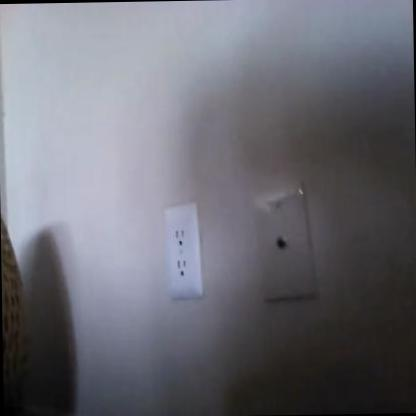OUTLET: (164, 200, 200, 298)
